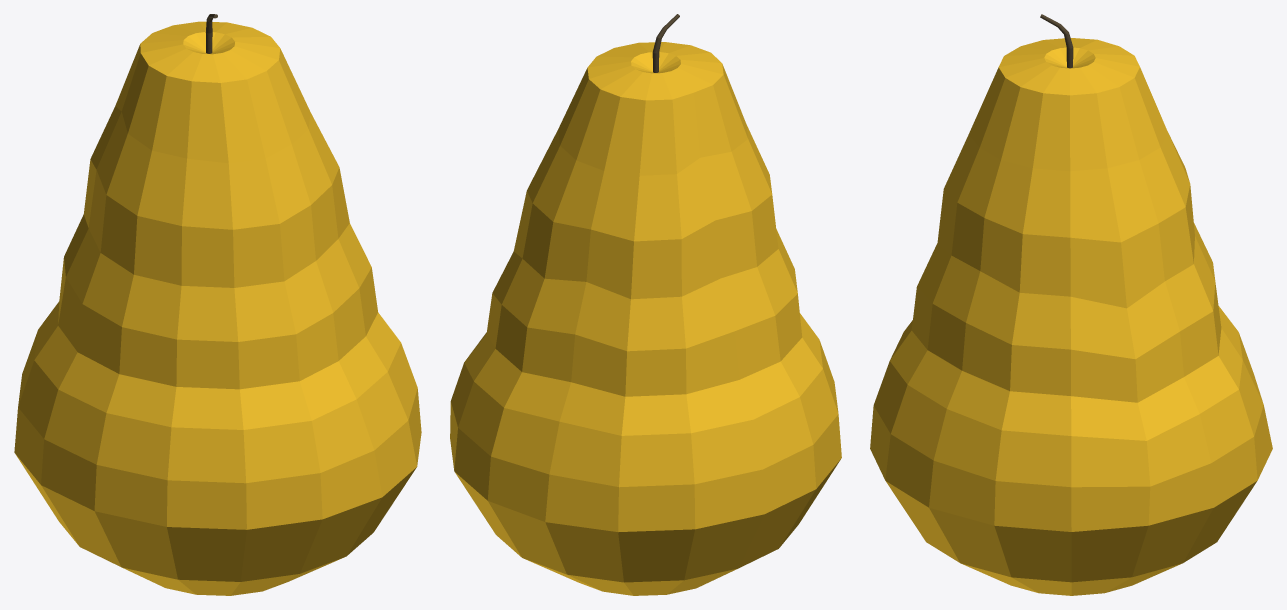
File: Birne.fbx
3 views of the same model, side by side, from view 1: azimuth 30°, elevation 25°; view 2: azimuth 150°, elevation 25°; view 3: azimuth 270°, elevation 25° (orthographic). The views are drawn at different scales.
Visible parts, largest first — view 1: Birne; view 2: Birne; view 3: Birne.
Boxes of the visible parts, x1,y1,x2,y2 form: Birne: (14, 14, 421, 595); Birne: (450, 14, 841, 595); Birne: (870, 14, 1272, 595).
Bounding box in the file's own units: 17.92 × 27.64 × 18.4.
